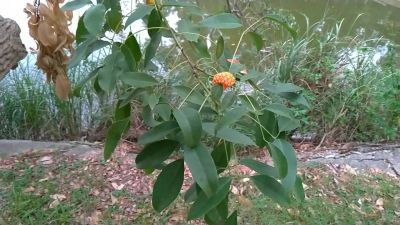eggs: (211, 66, 237, 89)
